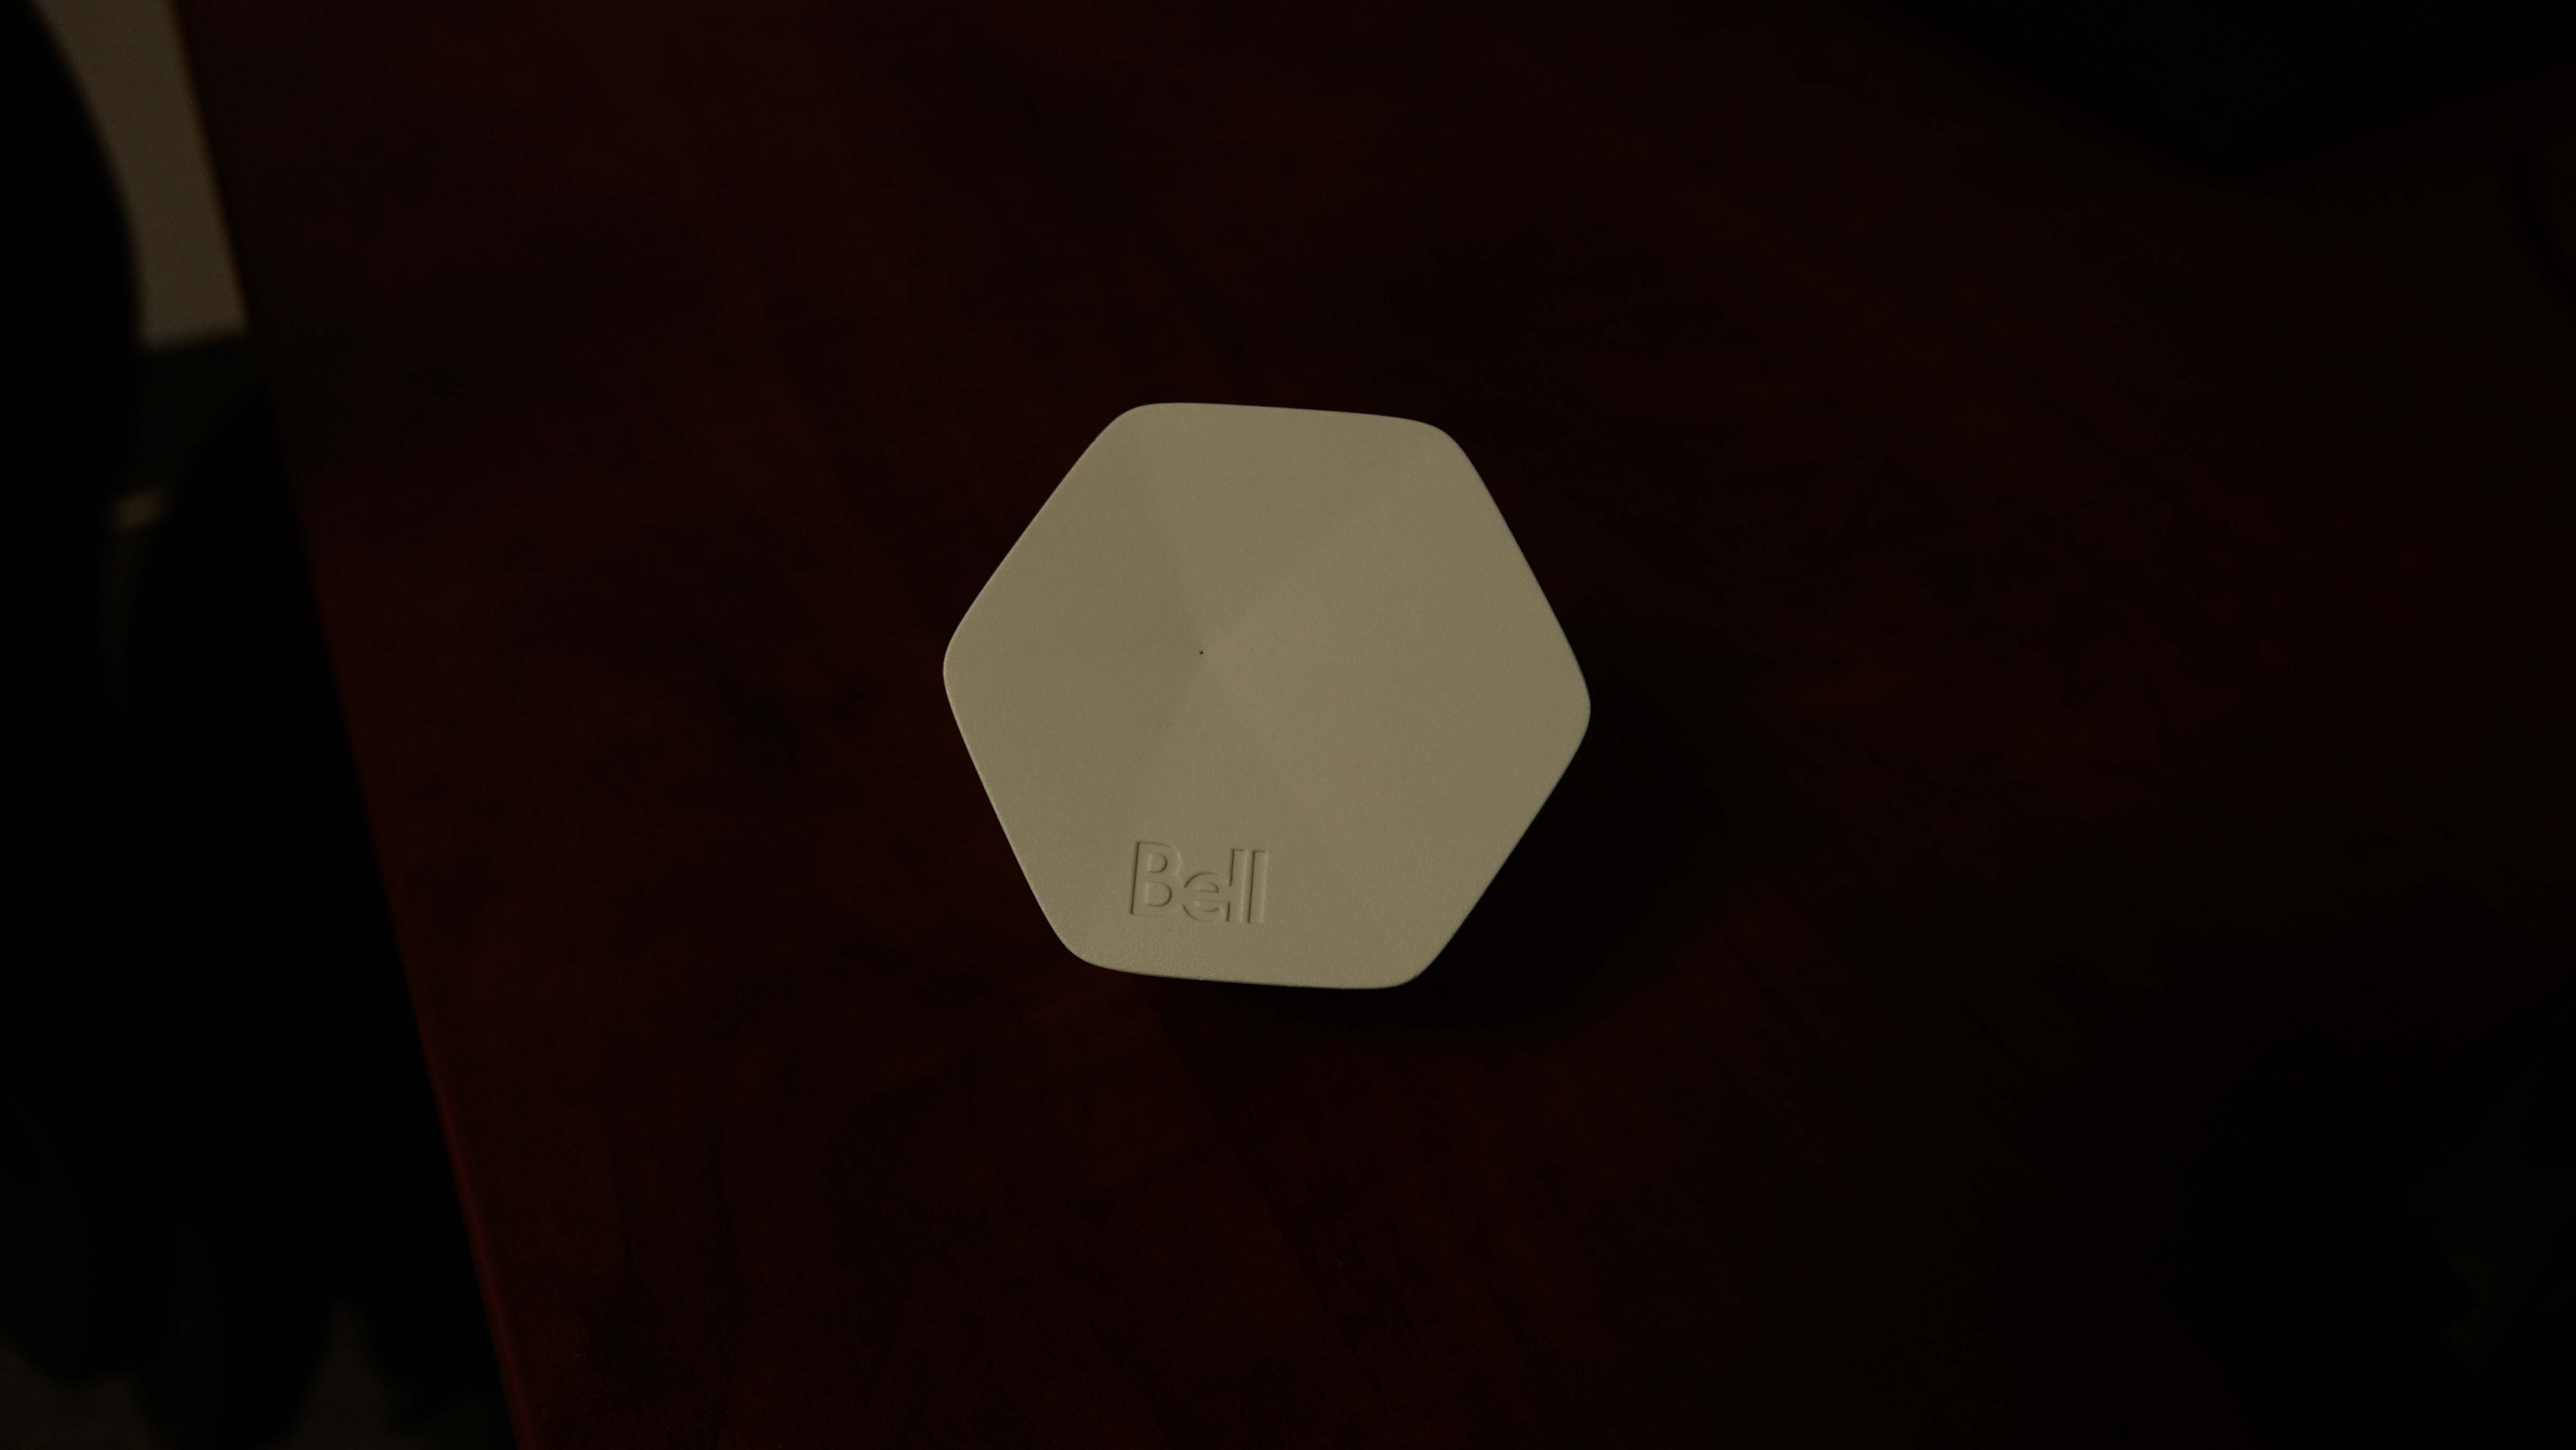pod: (938, 394, 1610, 1001)
